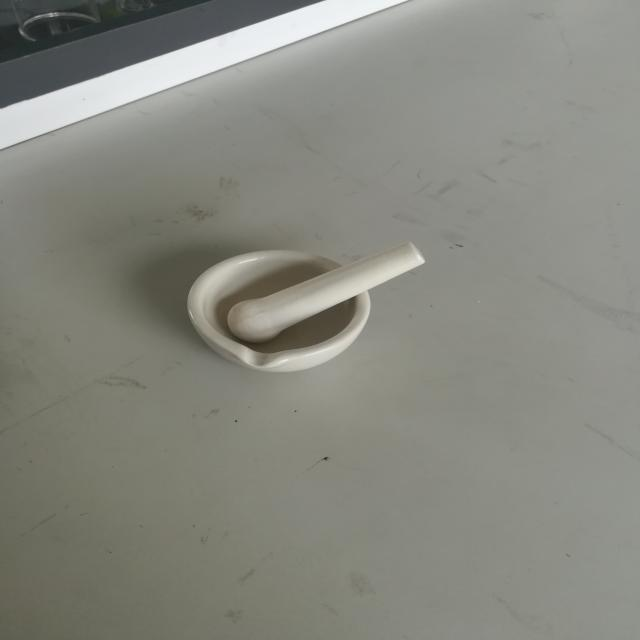Porcelain_Mortar Pestle: (127, 220, 456, 390)
